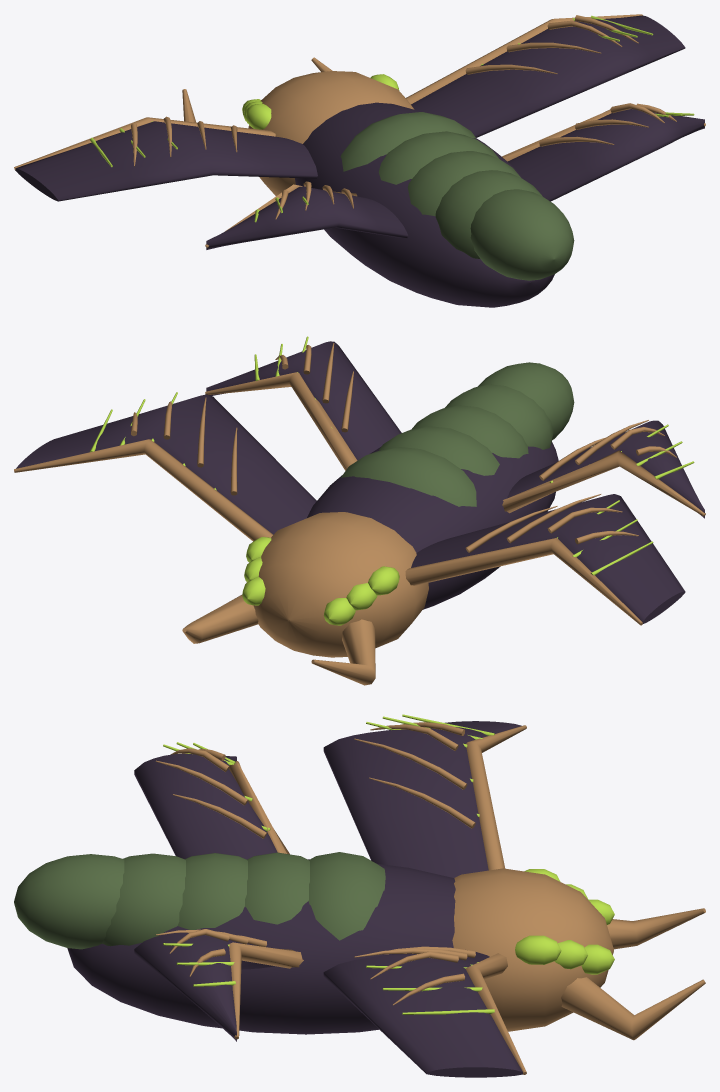
The model's file is insect.glb.
3 renders of one model, top to bottom at view 1: azimuth 30°, elevation 25°; view 2: azimuth 150°, elevation 25°; view 3: azimuth 270°, elevation 25°, orthographic. The views are drawn at different scales.
Parts seen in each view (by area): view 1: insect; view 2: insect; view 3: insect.
Part boxes in pixels (left/top/right/bottom): insect: left=14, top=14, right=705, bottom=307; insect: left=14, top=336, right=705, bottom=685; insect: left=14, top=714, right=705, bottom=1077.
Size of the model in its own units: 8.32 by 2.03 by 7.01.
